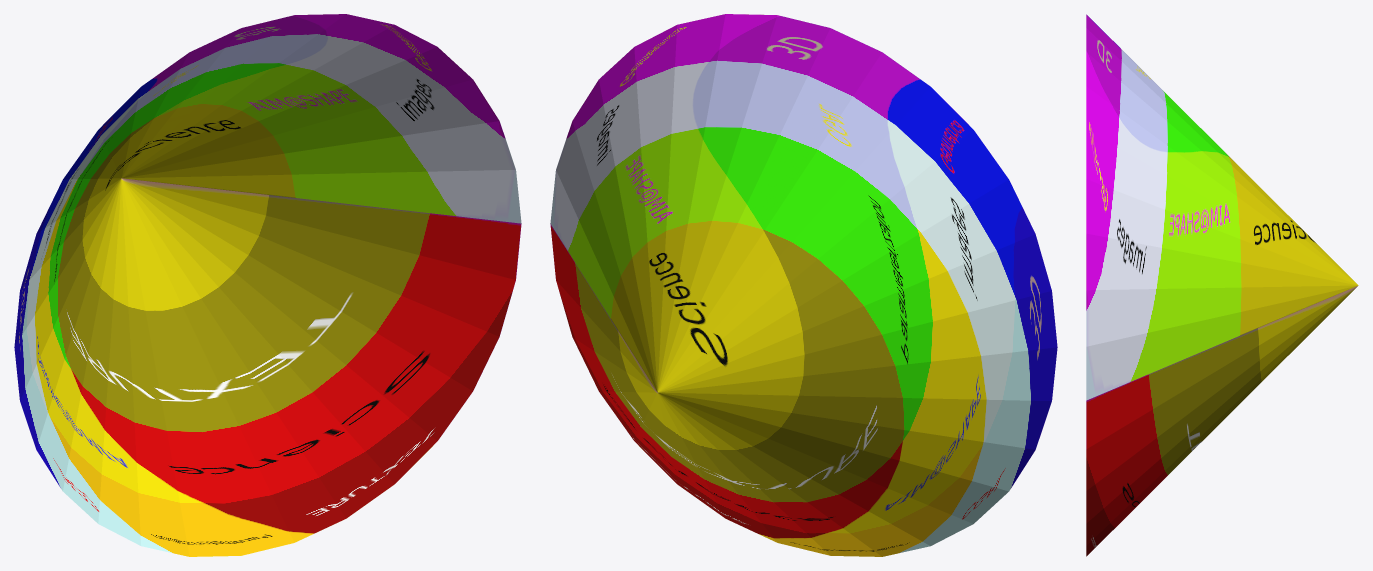
Rendered from test_cone_uniform_square.obj.
The picture shows the model from 3 angles, left to right: view 1: azimuth 30°, elevation 25°; view 2: azimuth 150°, elevation 25°; view 3: azimuth 270°, elevation 25°; orthographic projection. The views are drawn at different scales.
Size of the model in its own units: 2 by 1.99 by 1.
1 material, 1 textured.
